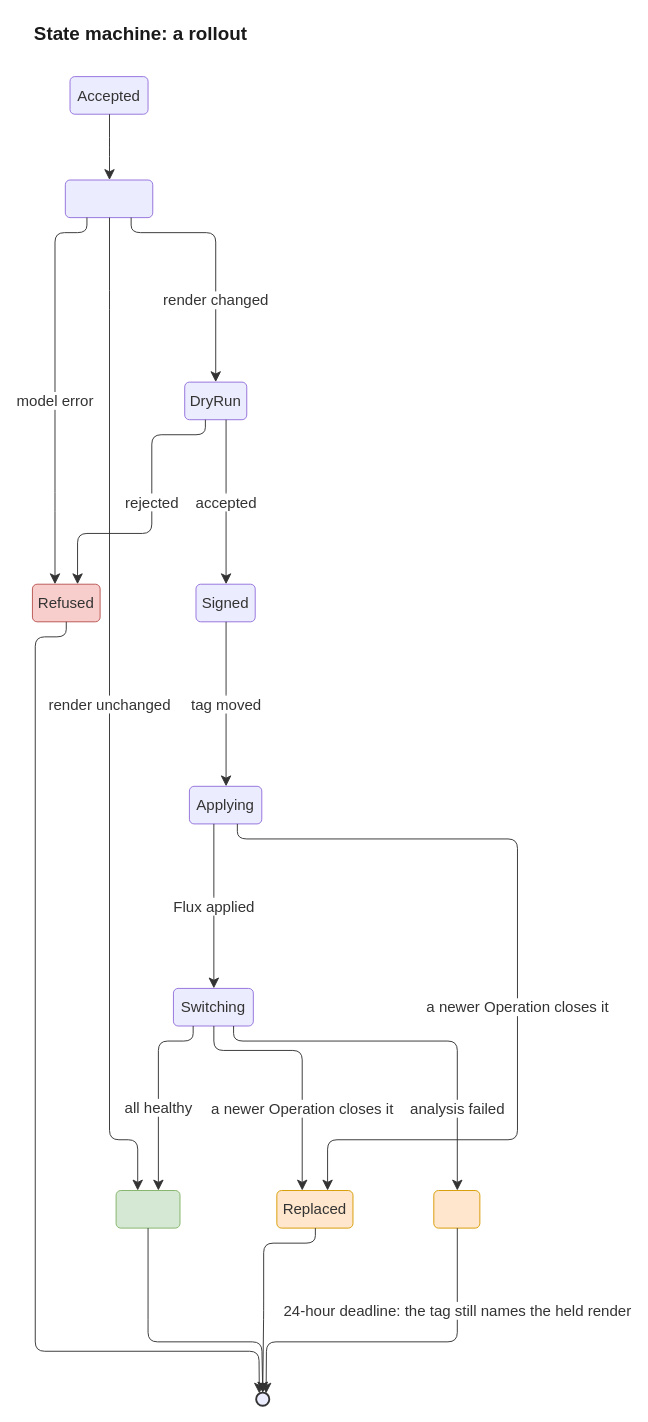
This 648x1422 diagram has some shape labels left out. Here are the shapes that lost their labels. From the top down, the centre of each, then its label:
(x=108, y=198): Composing
(x=147, y=1209): Serving
(x=456, y=1209): Held
